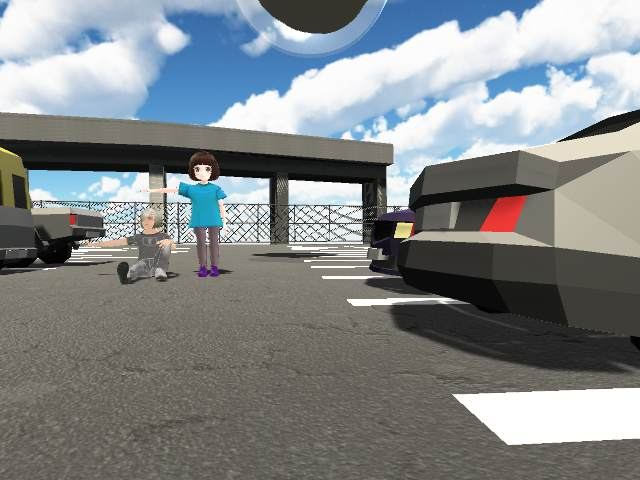doubleP_left: (81, 152, 230, 286)
